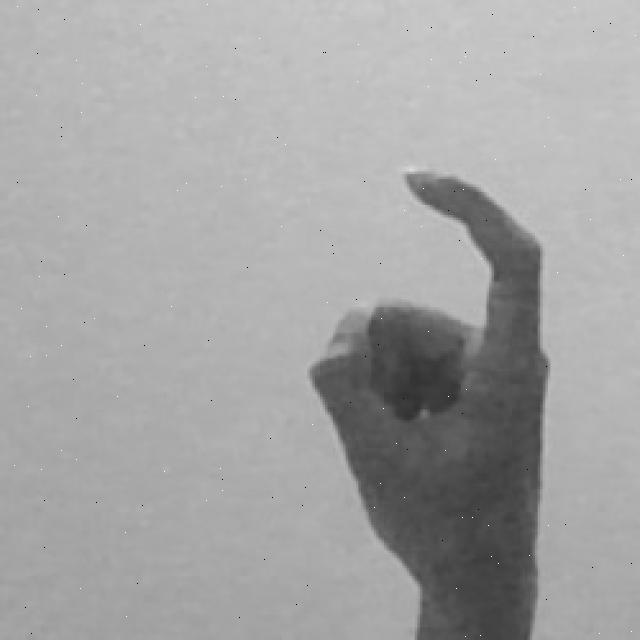X: (296, 158, 555, 640)
